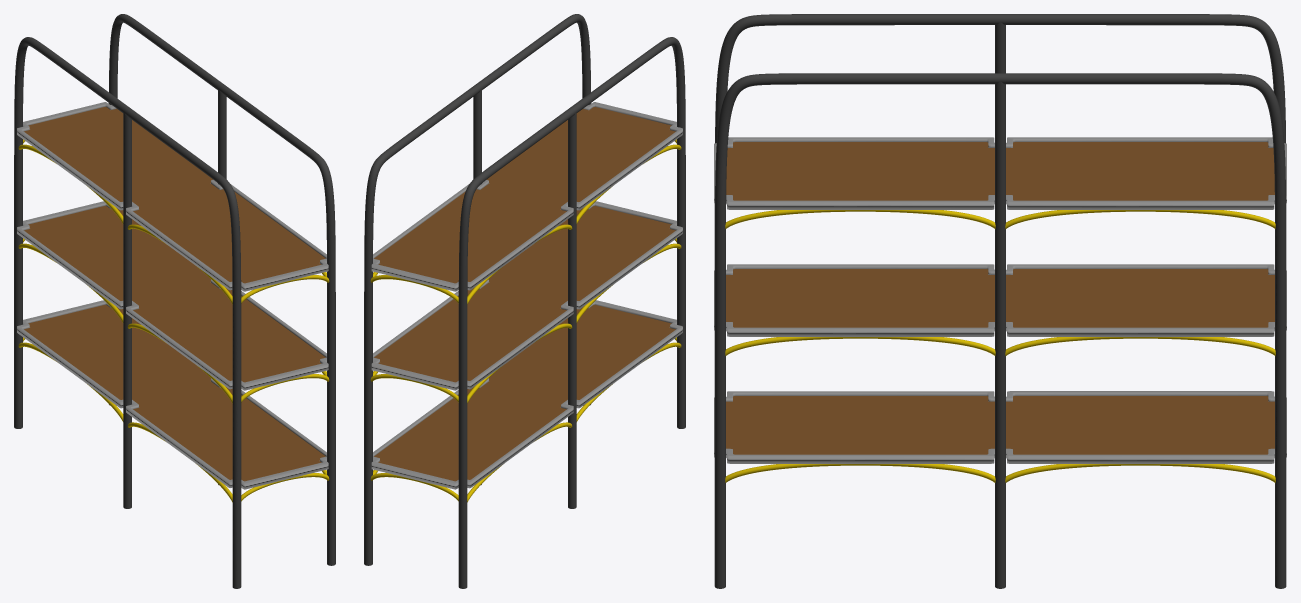
File: Scaffale4x4.fbx
The picture shows the model from 3 angles, left to right: view 1: azimuth 30°, elevation 25°; view 2: azimuth 150°, elevation 25°; view 3: azimuth 270°, elevation 25°; orthographic projection. The views are drawn at different scales.
Visible parts, largest first — view 1: PercorsoNURBS, Ripiano2, Ripiano3, Ripiano1, CorniceRipiano2, CorniceRipiano3, CorniceRipiano1, PercorsoNURBS.001, PercorsoNURBS.002; view 2: PercorsoNURBS, Ripiano2, Ripiano3, Ripiano1, CorniceRipiano2, CorniceRipiano3, CorniceRipiano1, PercorsoNURBS.001, PercorsoNURBS.002; view 3: PercorsoNURBS, Ripiano3, Ripiano1, Ripiano2, CorniceRipiano2, CorniceRipiano3, CorniceRipiano1, PercorsoNURBS.001.
Boxes of the visible parts, x1,y1,x2,y2 form: PercorsoNURBS: (14,14,335,588); Ripiano2: (24,107,325,283); Ripiano3: (24,305,325,481); Ripiano1: (24,206,325,382); CorniceRipiano2: (17,102,328,291); CorniceRipiano3: (17,300,328,489); CorniceRipiano1: (17,201,328,390); PercorsoNURBS.001: (18,144,326,502); PercorsoNURBS.002: (23,139,329,501); PercorsoNURBS: (364,14,685,588); Ripiano2: (374,107,675,283); Ripiano3: (374,304,675,481); Ripiano1: (374,206,675,382); CorniceRipiano2: (371,102,682,291); CorniceRipiano3: (371,300,682,489); CorniceRipiano1: (371,201,682,390); PercorsoNURBS.001: (373,144,681,502); PercorsoNURBS.002: (370,139,676,501); PercorsoNURBS: (714,14,1286,588); Ripiano3: (726,396,1274,454); Ripiano1: (726,269,1274,327); Ripiano2: (726,142,1274,200); CorniceRipiano2: (714,137,1286,209); CorniceRipiano3: (714,391,1286,463); CorniceRipiano1: (714,264,1286,336); PercorsoNURBS.001: (725,210,1275,482).
Bounding box in the file's own units: 110 × 404 × 409.
